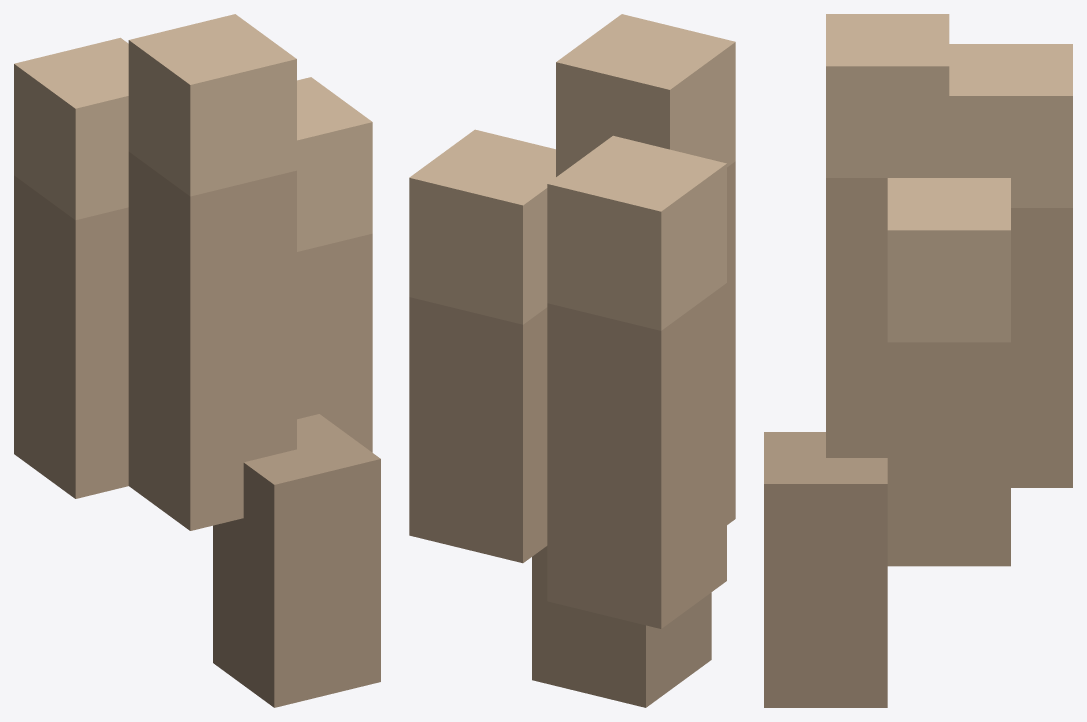
The model's file is coral_cuerno_de_ciervo_03.glb.
3 views of the same model, side by side, from view 1: azimuth 30°, elevation 25°; view 2: azimuth 150°, elevation 25°; view 3: azimuth 270°, elevation 25° (orthographic). The views are drawn at different scales.
Visible parts, largest first — view 1: coral_cuerno_de_ciervo_03; view 2: coral_cuerno_de_ciervo_03; view 3: coral_cuerno_de_ciervo_03.
Part boxes in pixels (left/top/right/bottom): coral_cuerno_de_ciervo_03: left=14, top=14, right=380, bottom=707; coral_cuerno_de_ciervo_03: left=409, top=14, right=735, bottom=707; coral_cuerno_de_ciervo_03: left=764, top=14, right=1072, bottom=707.
Bounding box in the file's own units: 0.5 × 1.1 × 0.5.
